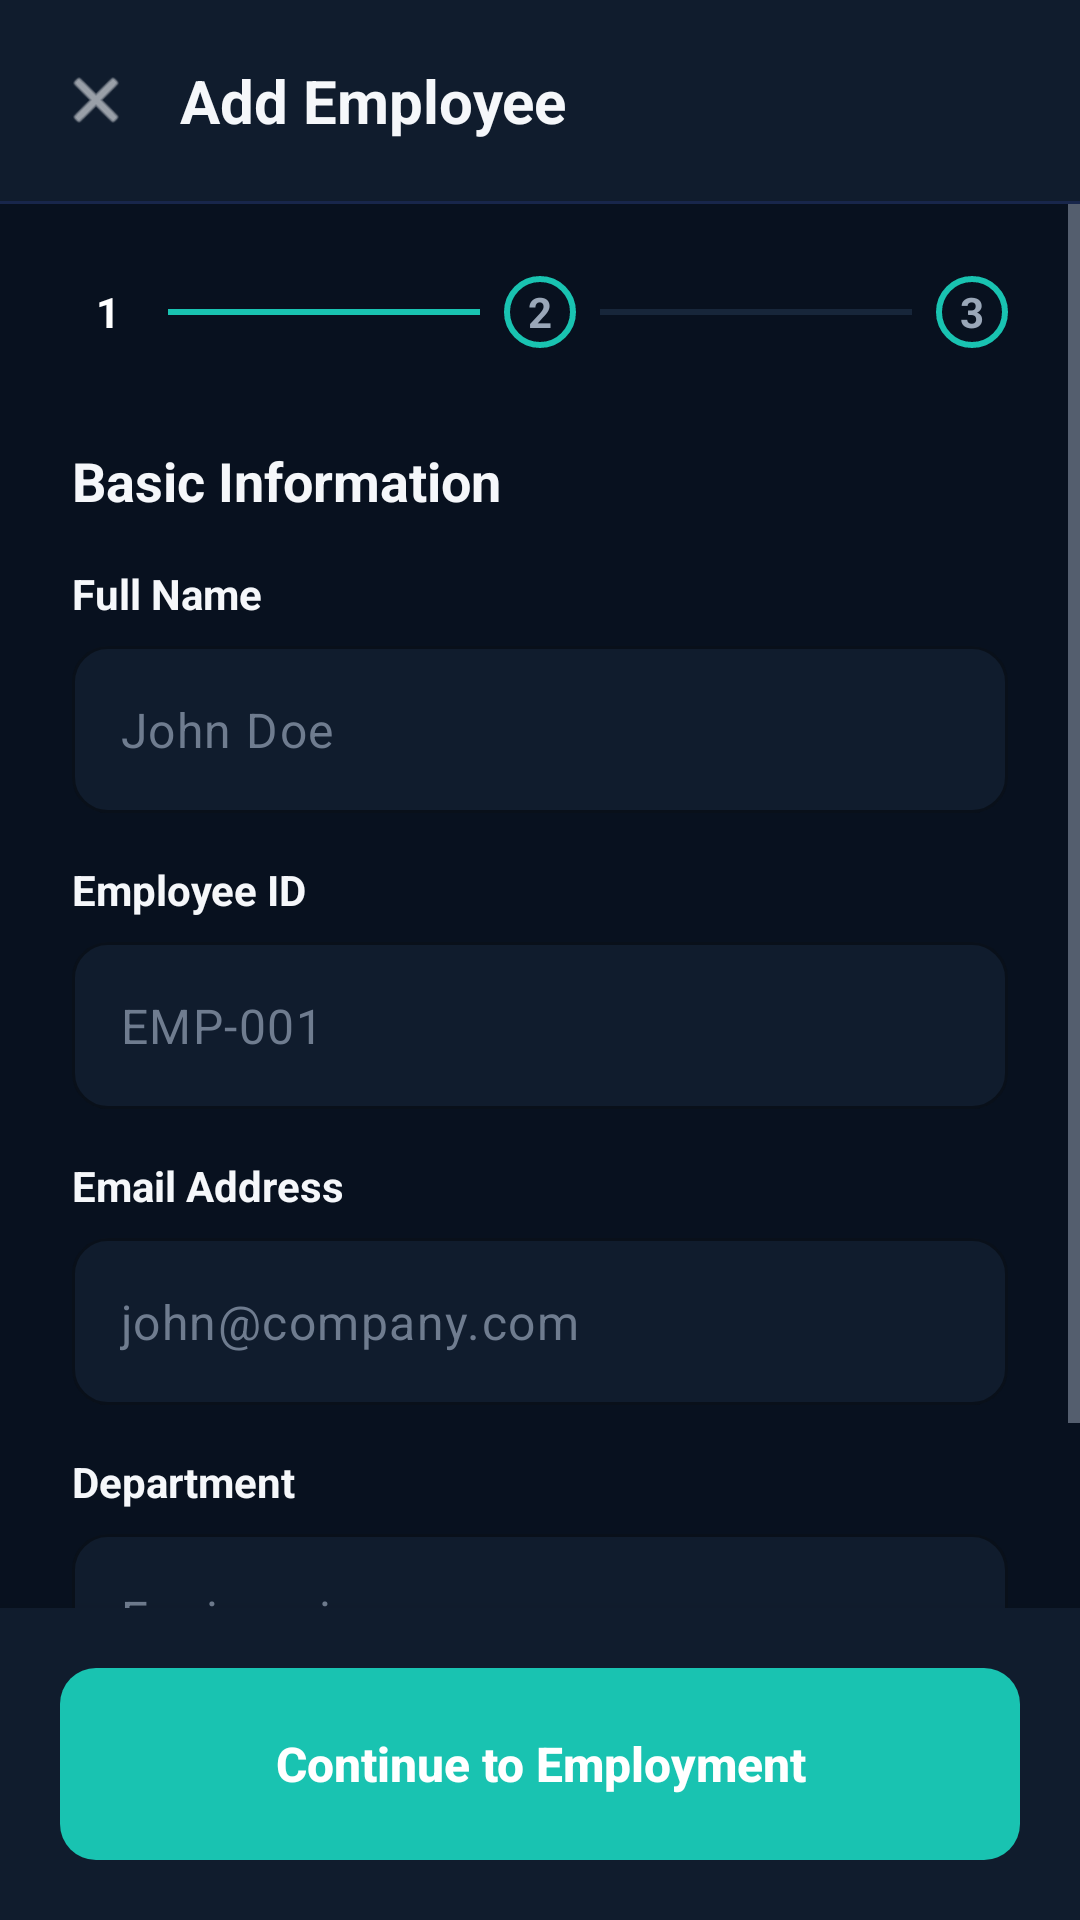

Icons on this 1080 x 1920 Android screen, each with its box as bbox=[x1, y1, x2, y2]:
close clear cancel: bbox=[73, 77, 119, 123]
